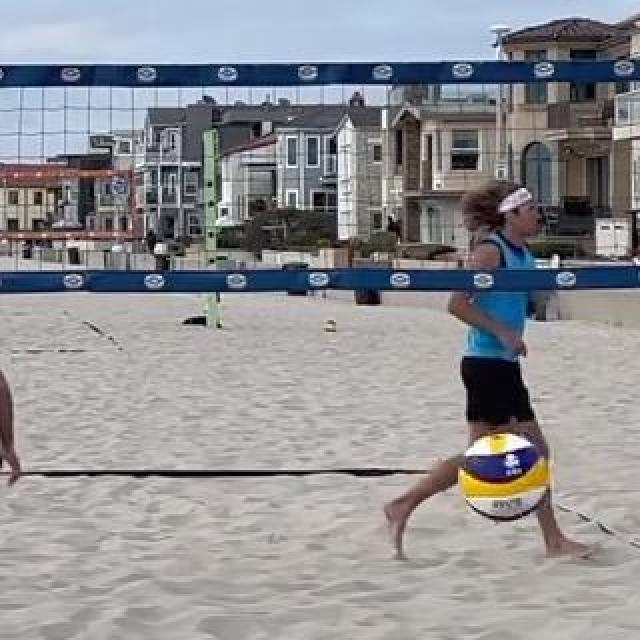volleyball: (458, 434, 548, 518), (323, 319, 337, 331)
